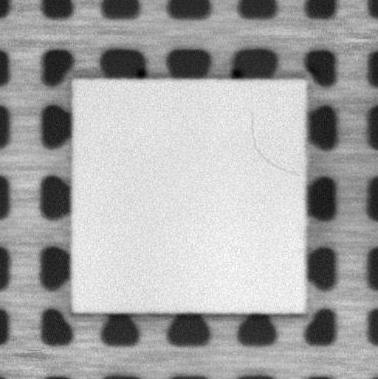DIE_CRACK: (248, 112, 297, 178)
